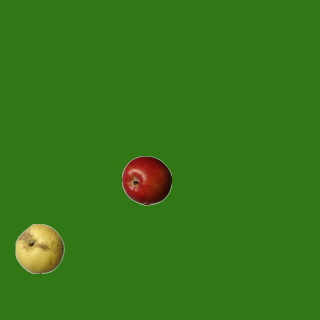Apple Braeburn: (121, 155, 171, 205)
Apple Golden 1: (14, 223, 64, 273)
